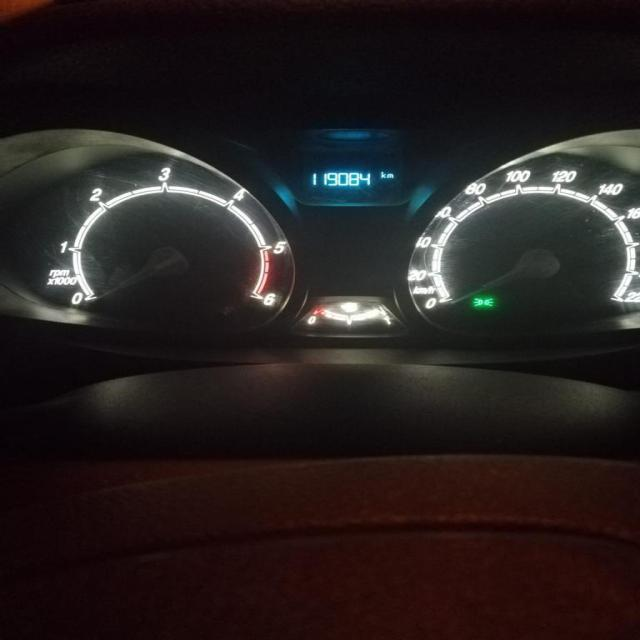odometer: (296, 162, 398, 194)
